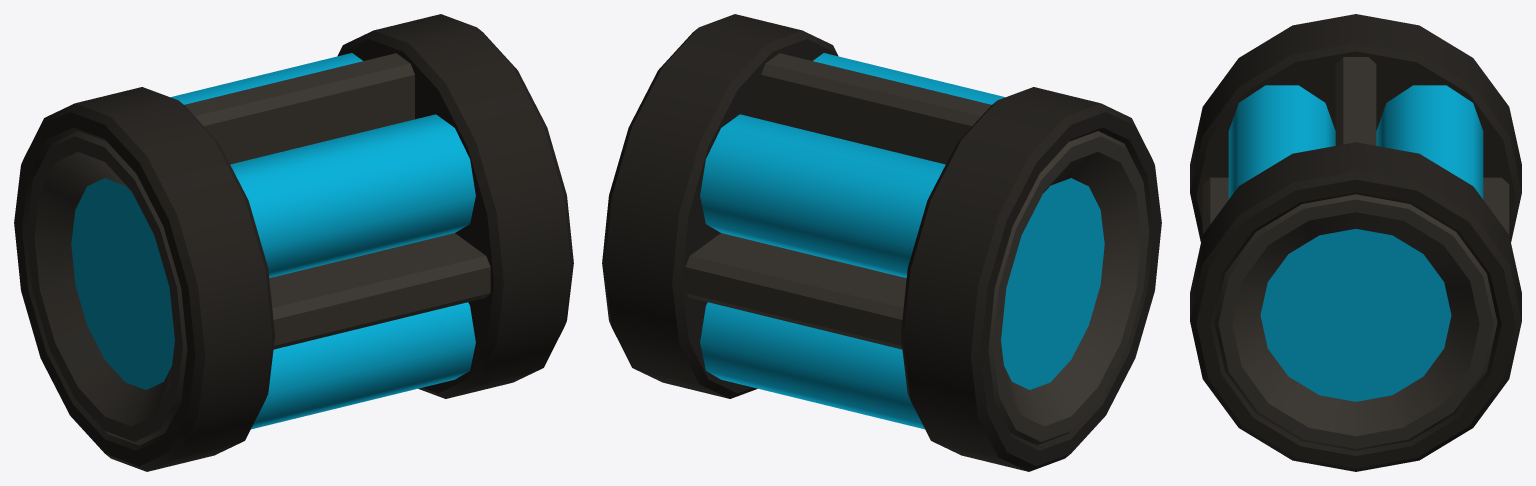
File: SR1_Magazine.fbx
3 views of the same model, side by side, from view 1: azimuth 30°, elevation 25°; view 2: azimuth 150°, elevation 25°; view 3: azimuth 270°, elevation 25° (orthographic). The views are drawn at different scales.
Visible parts, largest first — view 1: SR1_Magazine; view 2: SR1_Magazine; view 3: SR1_Magazine.
Boxes of the visible parts, x1,y1,x2,y2 form: SR1_Magazine: [14, 14, 573, 471]; SR1_Magazine: [602, 14, 1161, 471]; SR1_Magazine: [1190, 14, 1521, 471].
Size of the model in its own units: 8.59 by 7.41 by 7.41.
